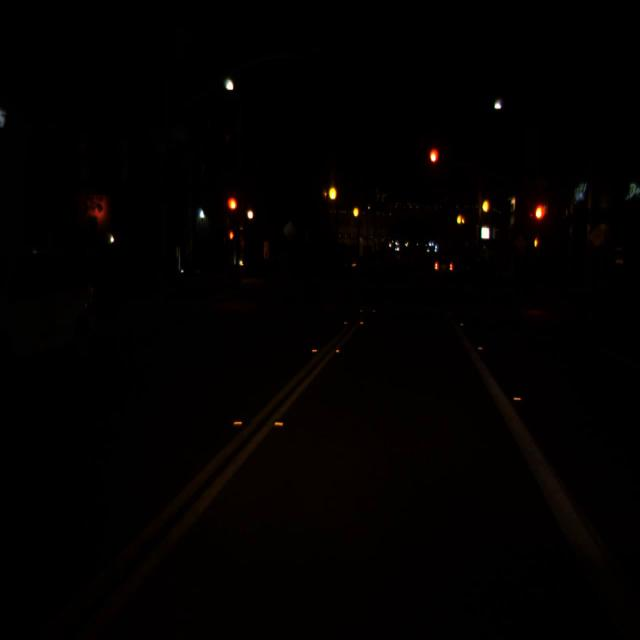stop: (535, 205, 545, 219), (228, 199, 236, 209), (431, 151, 436, 162)
stop traffic light: (533, 202, 547, 238), (226, 196, 238, 225), (429, 149, 438, 177)
